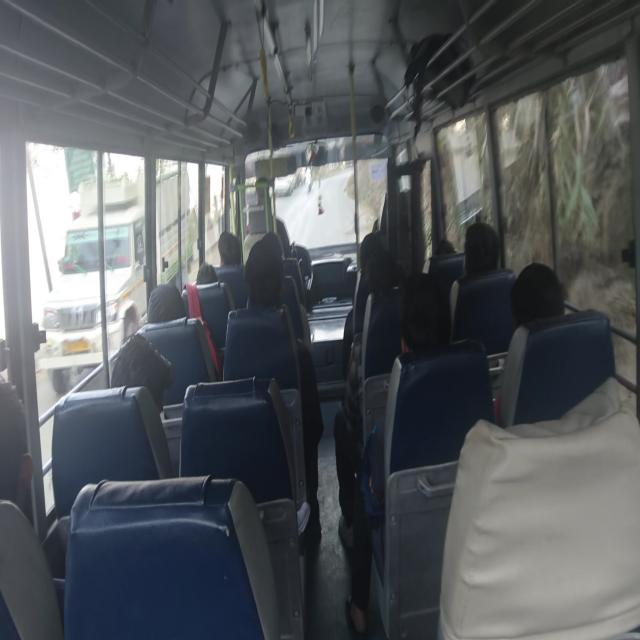person: (343, 271, 452, 635), (223, 231, 324, 541), (334, 247, 400, 547), (498, 261, 566, 425), (109, 303, 173, 411), (342, 231, 384, 373), (449, 220, 500, 336), (0, 379, 34, 515), (510, 261, 564, 328), (148, 282, 186, 323), (218, 230, 242, 267), (122, 302, 140, 342), (196, 261, 218, 285)
